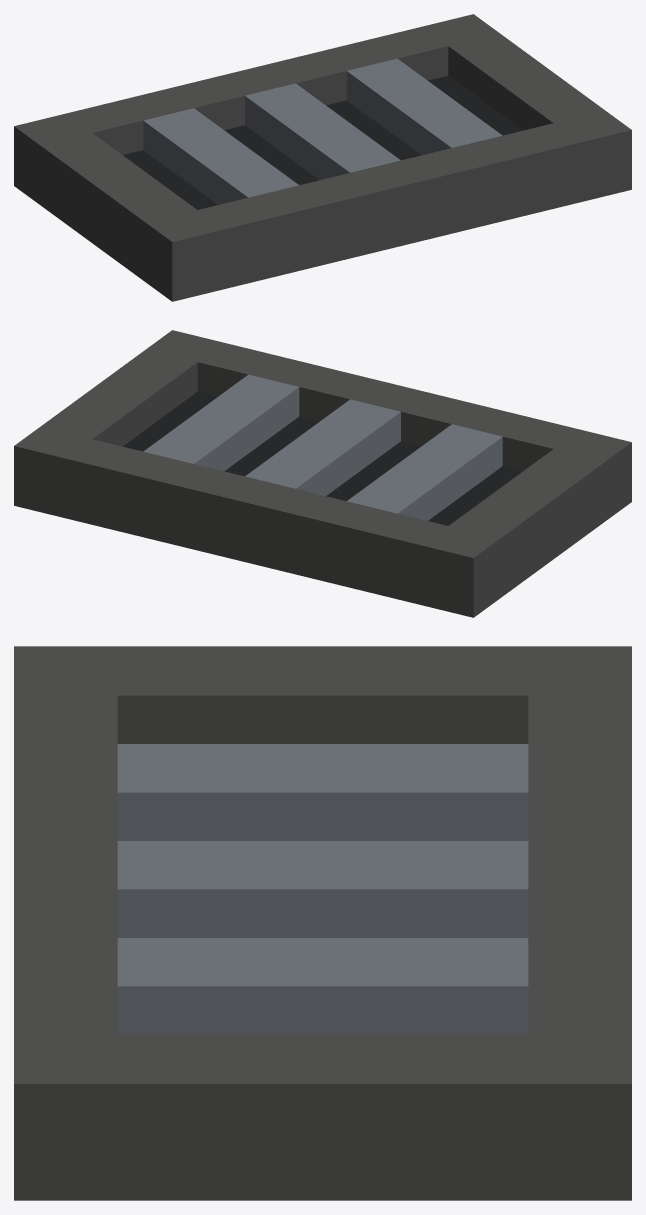
The model's file is SM_Prop_Drain_01.fbx.
3 views of the same model, one above another, from view 1: azimuth 30°, elevation 25°; view 2: azimuth 150°, elevation 25°; view 3: azimuth 270°, elevation 25° (orthographic). The views are drawn at different scales.
Visible parts, largest first — view 1: SM_Prop_Drain_01; view 2: SM_Prop_Drain_01; view 3: SM_Prop_Drain_01.
Part boxes in pixels (x1,y1,x2,y2): SM_Prop_Drain_01: [14, 14, 631, 301]; SM_Prop_Drain_01: [14, 330, 631, 617]; SM_Prop_Drain_01: [14, 646, 631, 1200].
Bounding box in the file's own units: 48.73 × 6.05 × 29.08.
